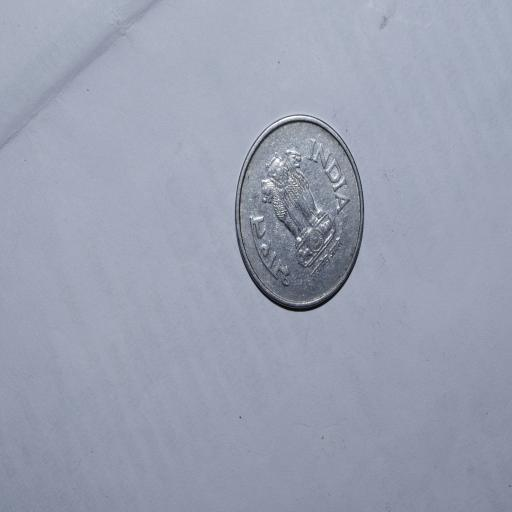rupee1: (230, 114, 363, 316)
